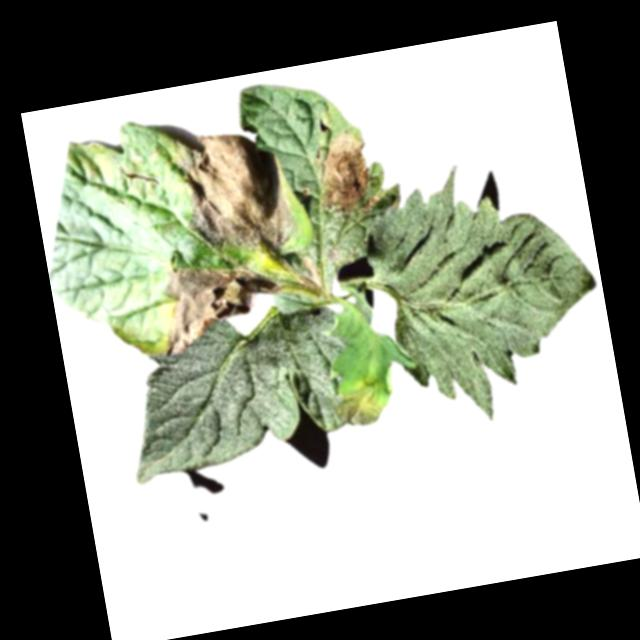Late_blight: (172, 121, 305, 265), (163, 249, 293, 356), (311, 124, 377, 217), (328, 378, 388, 432), (300, 254, 325, 294)
